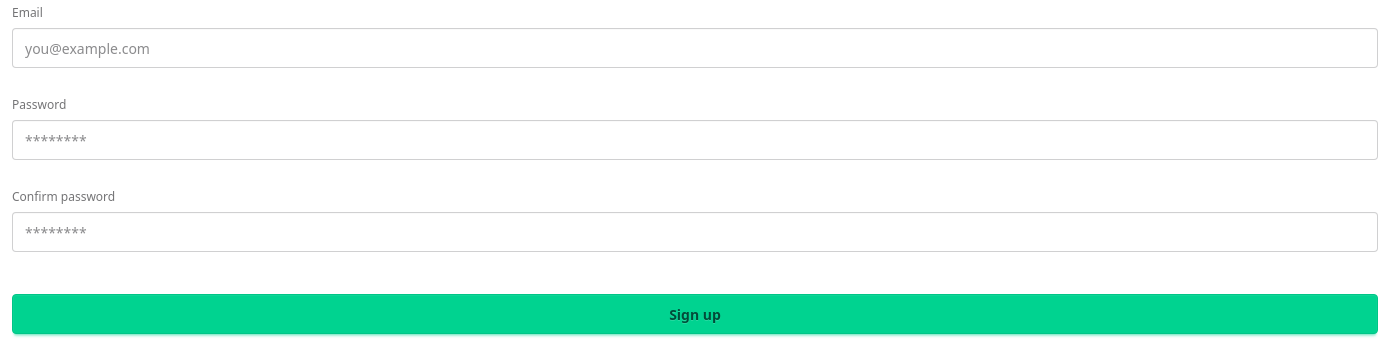
it: SignUp Component › should display error if passwords doen't match
The image size is (1390, 355).
Type "test@example.com" into the field labelled "Email" at (695, 48), box [12,28,1378,68]
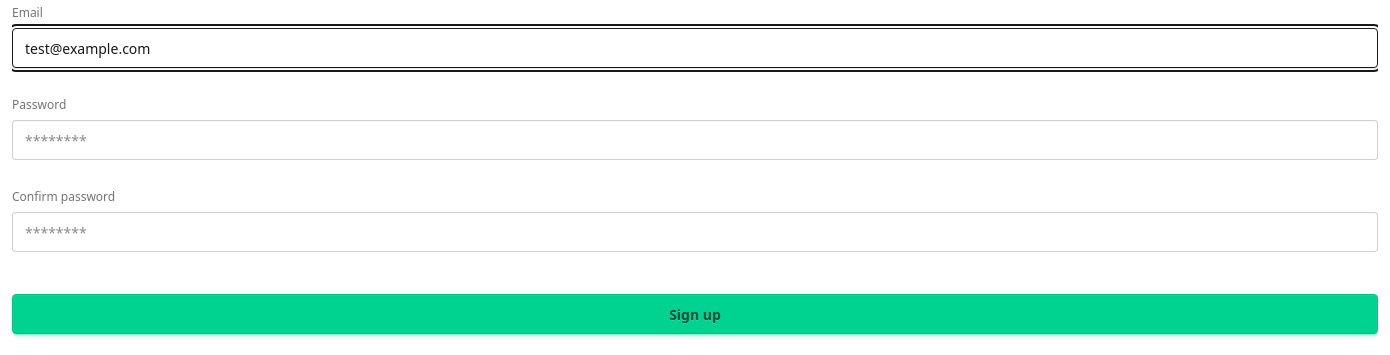
Type "password123!" into the field labelled "Password" at (695, 140), box [12,120,1378,160]
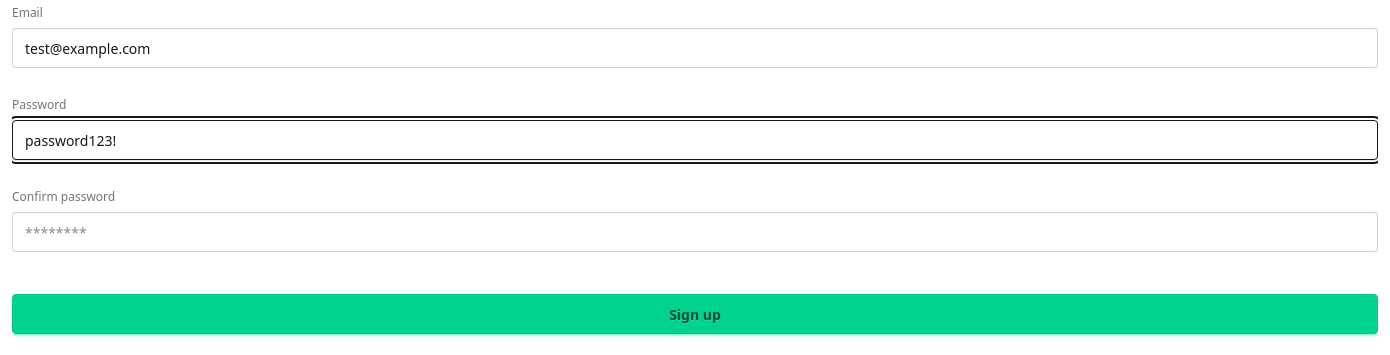
Type "password123" into the field labelled "Confirm password" at (695, 232), box [12,212,1378,252]
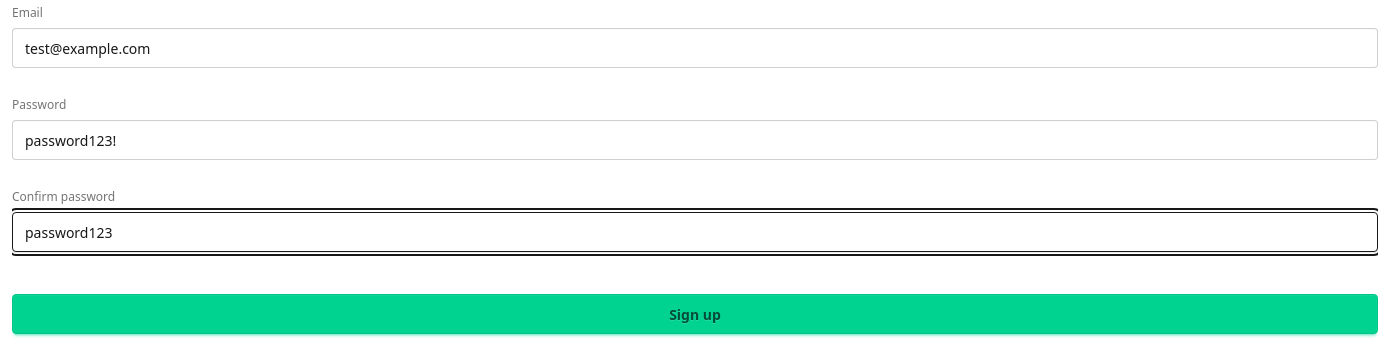
Click the button "Sign up" at (695, 314), box [12,294,1378,334]
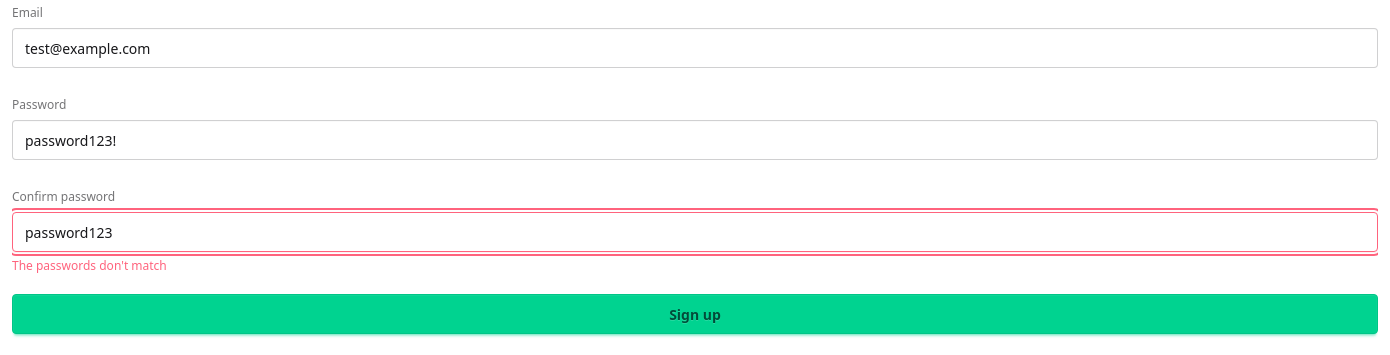
Check: the text "The passwords don't match" is shown, box [12,257,167,274]
